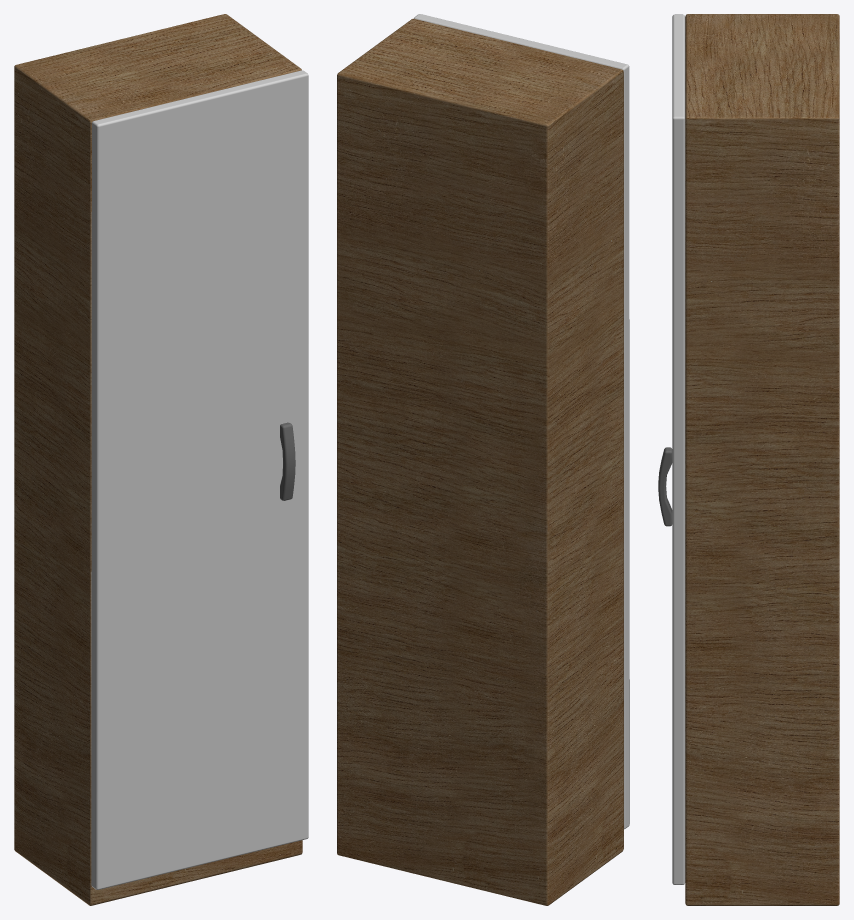
File: whitewoodenwardrobe1.fbx
3 renders of one model, left to right at view 1: azimuth 30°, elevation 25°; view 2: azimuth 150°, elevation 25°; view 3: azimuth 270°, elevation 25°, orthographic.
Visible parts, largest first — view 1: wardrobe.1; view 2: wardrobe.1; view 3: wardrobe.1.
Boxes of the visible parts, x1,y1,x2,y2 form: wardrobe.1: [14, 14, 308, 905]; wardrobe.1: [337, 14, 629, 905]; wardrobe.1: [658, 14, 839, 905].
Size of the model in its own units: 51.21 by 181 by 37.67.
